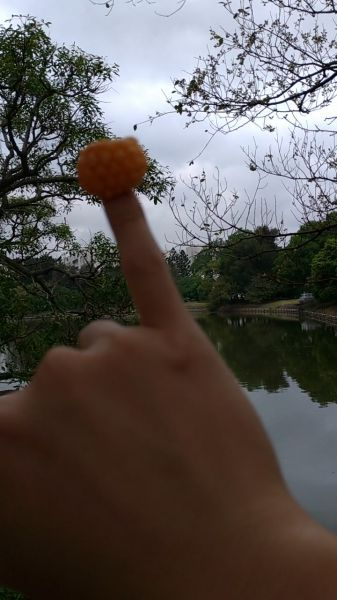eggs: (74, 138, 150, 197)
